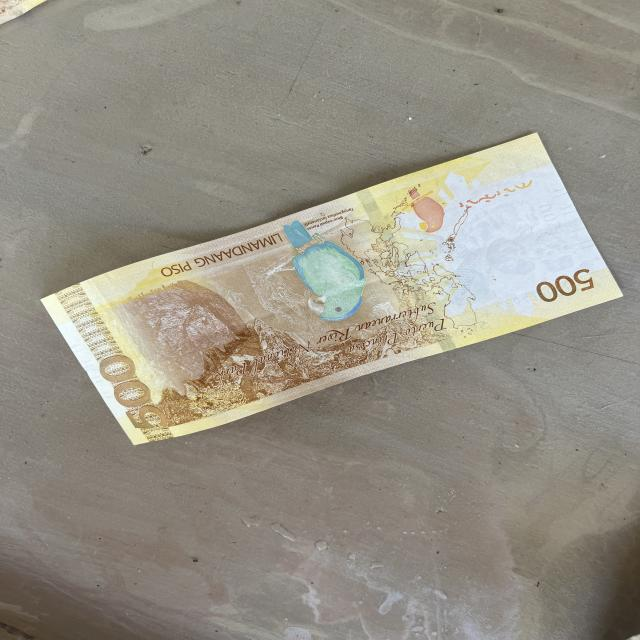500_big_parrot: (280, 219, 366, 319)
500_parrot_watermark: (402, 187, 444, 234)
value_watermark: (534, 203, 568, 234)
watermark: (469, 198, 574, 280)
